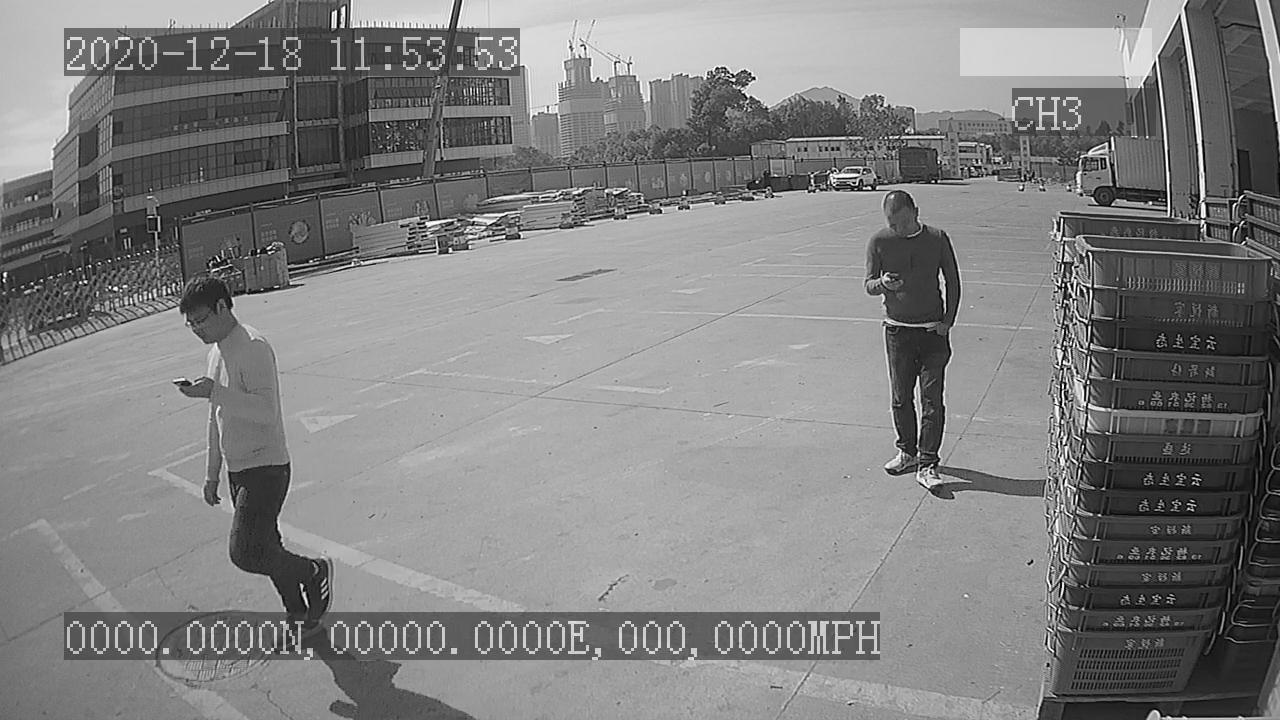person: (854, 188, 965, 501)
